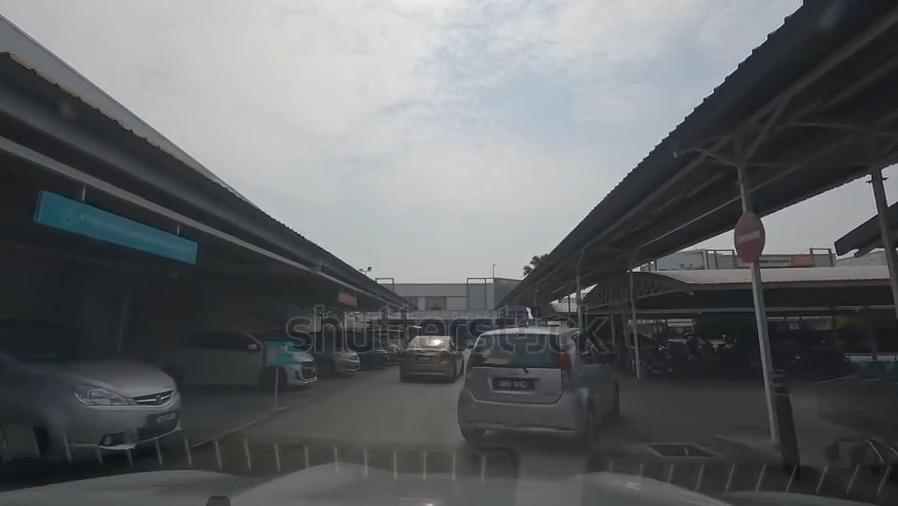car: (0, 309, 181, 466), (467, 331, 619, 436), (165, 327, 319, 394), (294, 327, 358, 375), (403, 331, 459, 375), (346, 338, 389, 369), (386, 339, 401, 363)
manhole: (641, 437, 714, 465)
wheel: (313, 351, 339, 383), (259, 364, 285, 392), (582, 403, 599, 443), (163, 361, 182, 380)
